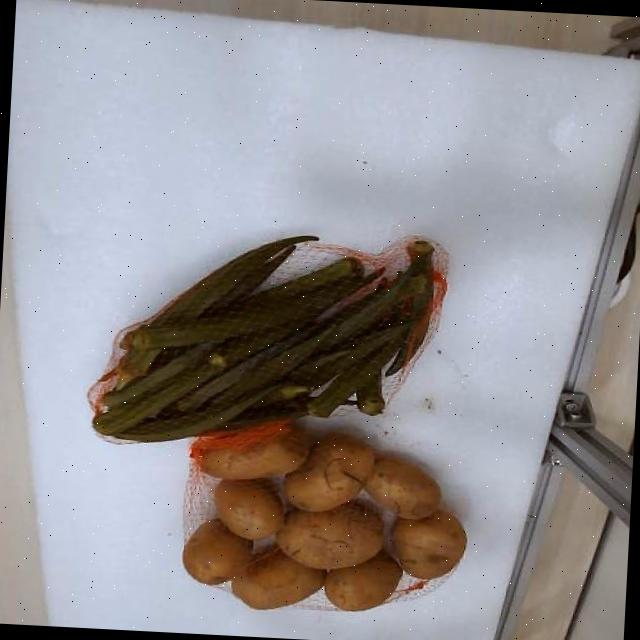potato: (89, 236, 434, 441), (277, 501, 383, 569), (284, 433, 374, 511), (231, 545, 326, 608), (199, 426, 309, 477), (392, 510, 466, 578), (324, 551, 401, 611), (365, 457, 440, 517), (183, 519, 252, 583), (214, 479, 284, 540)
